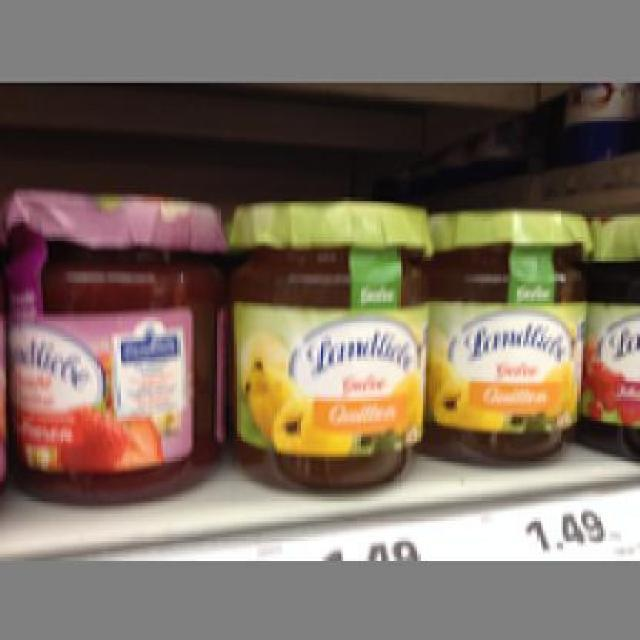Jam: (0, 185, 220, 506), (226, 197, 428, 492), (428, 206, 588, 463)
